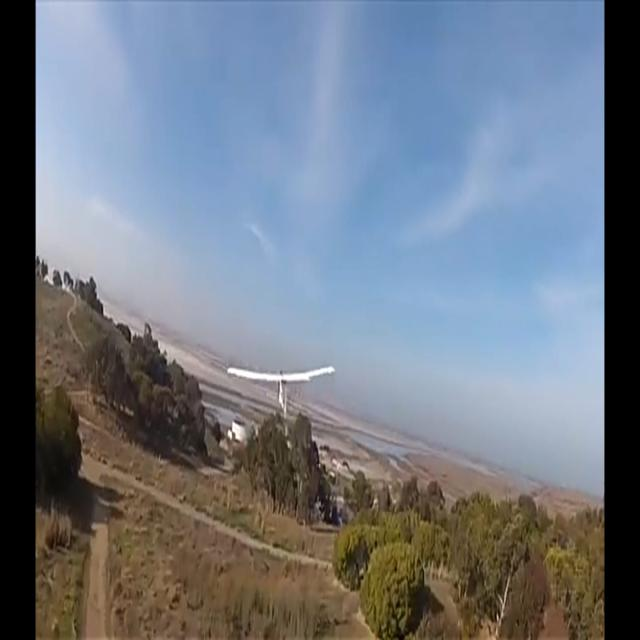iha: (259, 357, 304, 411)
